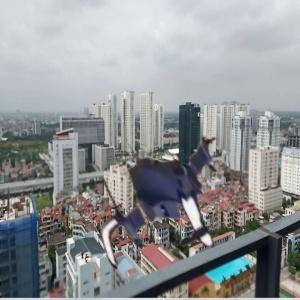drone: (85, 124, 248, 287)
